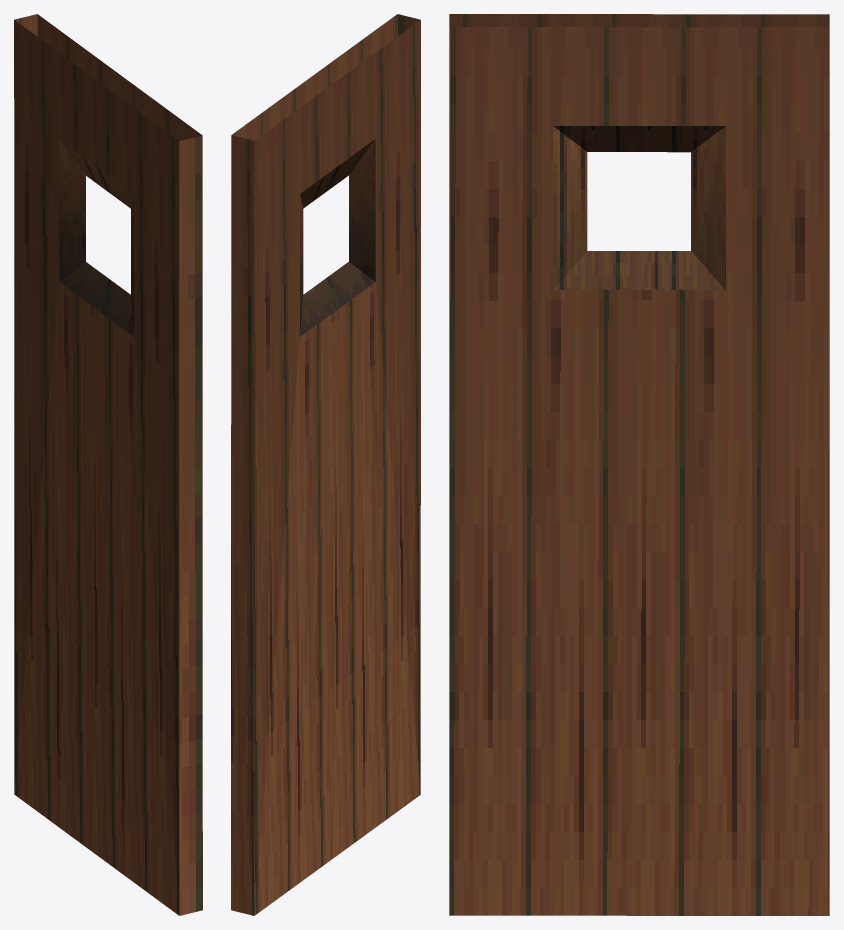
Rendered from primary_064.glb.
The picture shows the model from 3 angles, left to right: view 1: azimuth 30°, elevation 25°; view 2: azimuth 150°, elevation 25°; view 3: azimuth 270°, elevation 25°; orthographic projection. The views are drawn at different scales.
Visible parts, largest first — view 1: Object; view 2: Object; view 3: Object.
Boxes of the visible parts, x1,y1,x2,y2 form: Object: (14,14,202,915); Object: (231,14,420,915); Object: (449,14,829,915).
Size of the model in its own units: 0.079 by 2.44 by 0.946.
Materials: 5 (5 with a texture image).
